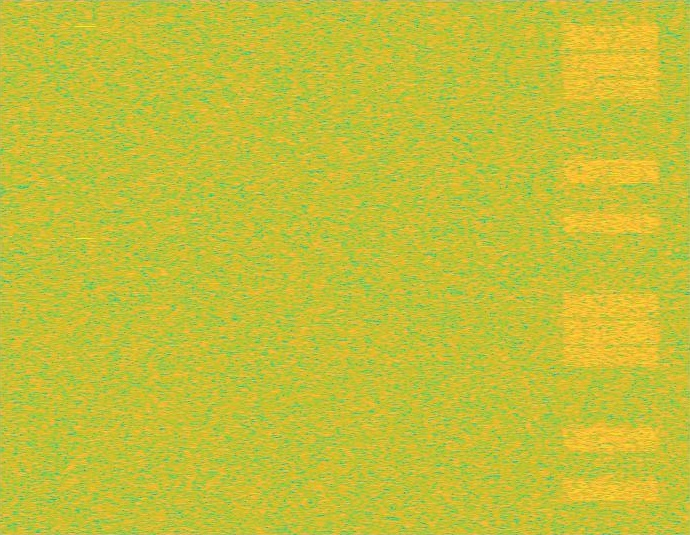LTE: (559, 0, 663, 534)
Radar: (78, 0, 92, 534)
